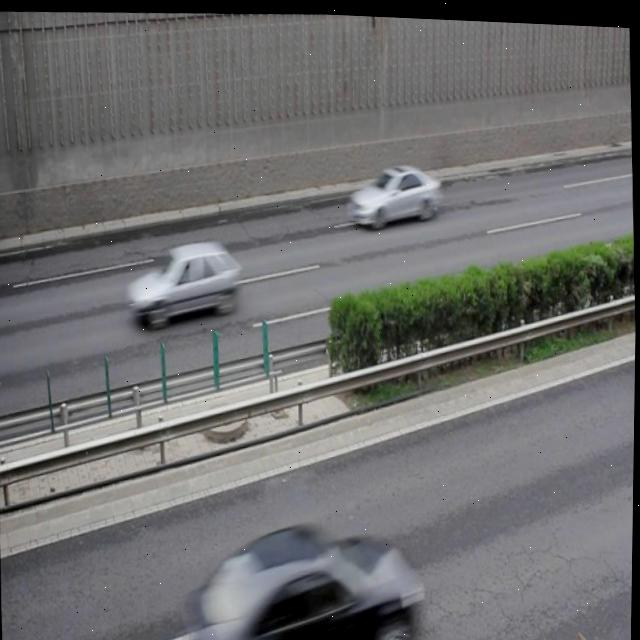car: (186, 509, 420, 640), (125, 231, 241, 326), (347, 152, 442, 228)
